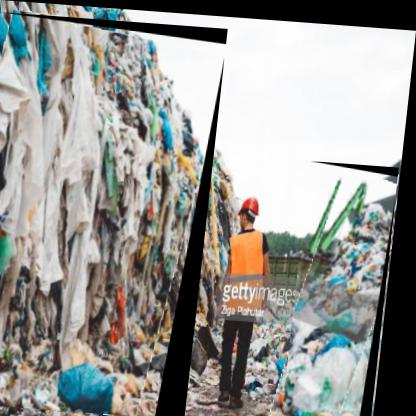Garbage: (1, 13, 230, 416), (290, 156, 405, 416)
